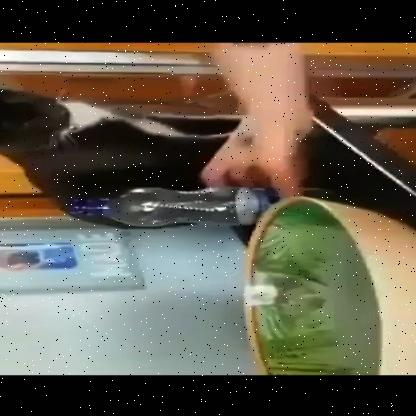Plastic Bottle: (66, 186, 276, 226)
